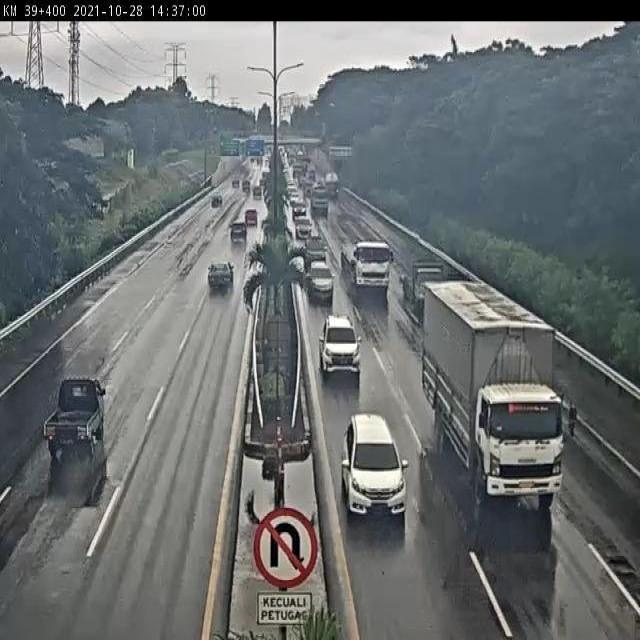big truck: (443, 332, 575, 500), (348, 229, 388, 299)
car: (34, 374, 103, 478), (343, 416, 403, 516), (321, 309, 357, 372), (207, 252, 230, 307), (310, 264, 334, 297), (226, 218, 248, 250)
